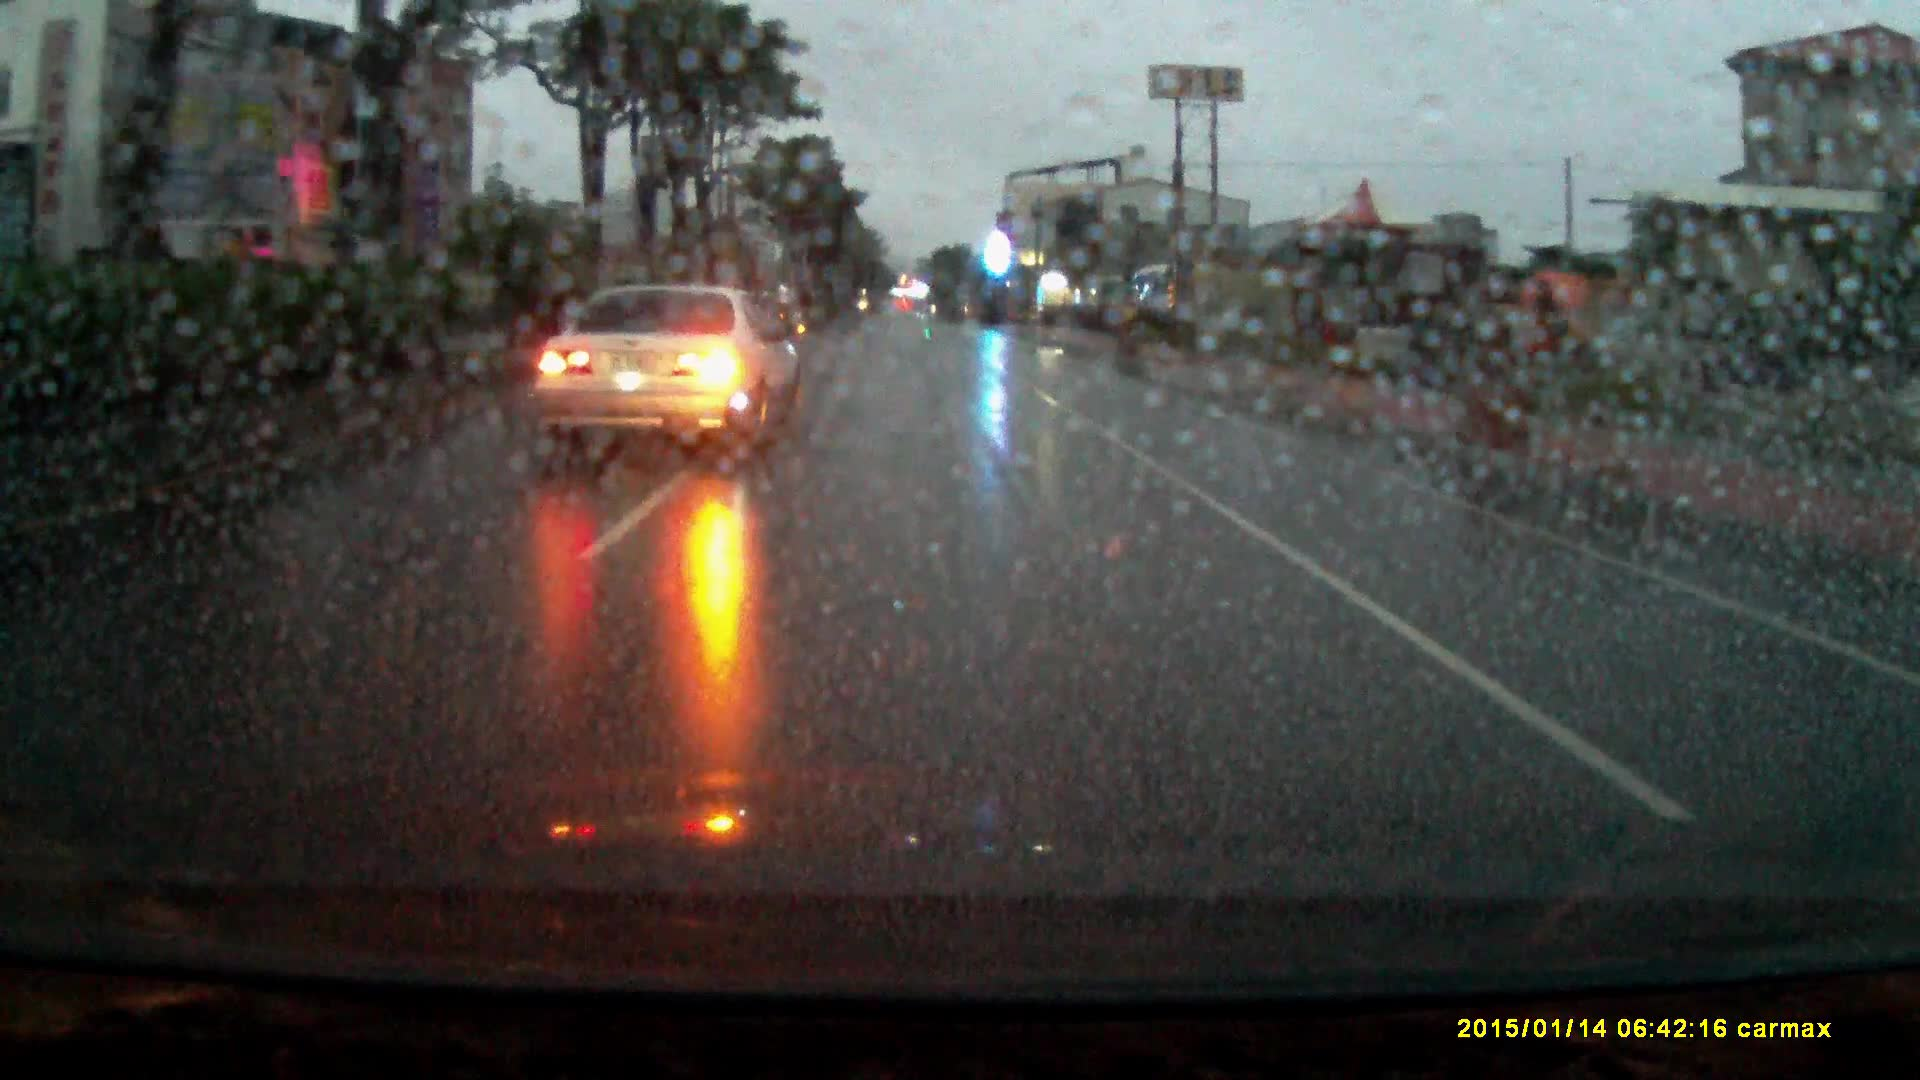pedestrian: (1510, 268, 1604, 468)
vehicle: (528, 286, 806, 468)
